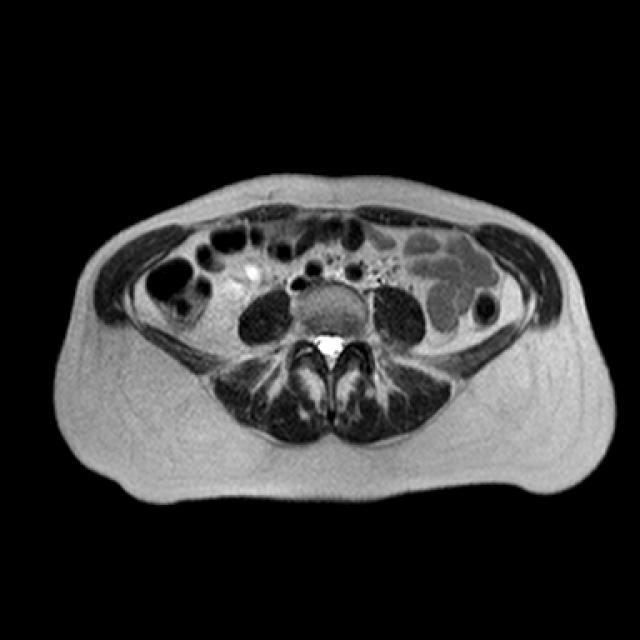sag: (218, 257, 265, 307)
